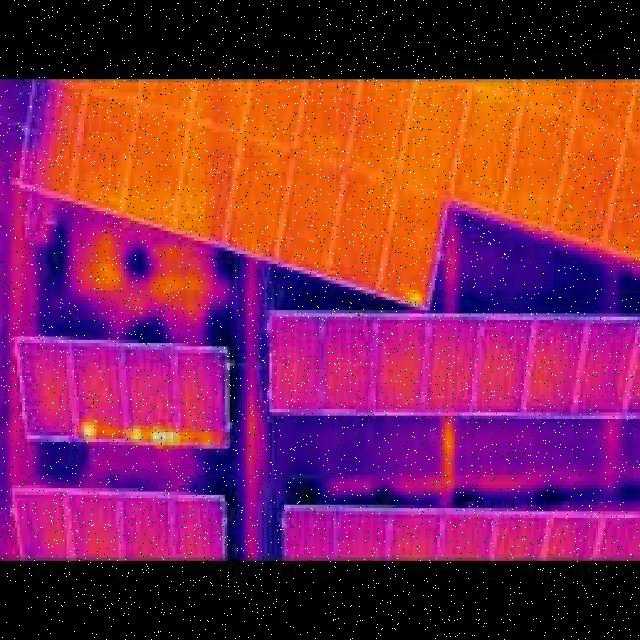Hotspot: (148, 426, 180, 448), (79, 422, 99, 442), (410, 287, 422, 307), (128, 426, 140, 442)
